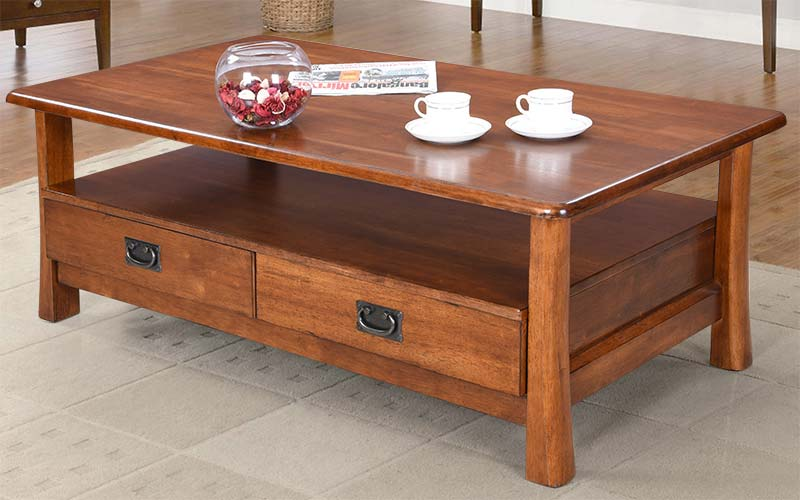table: (3, 22, 789, 492)
